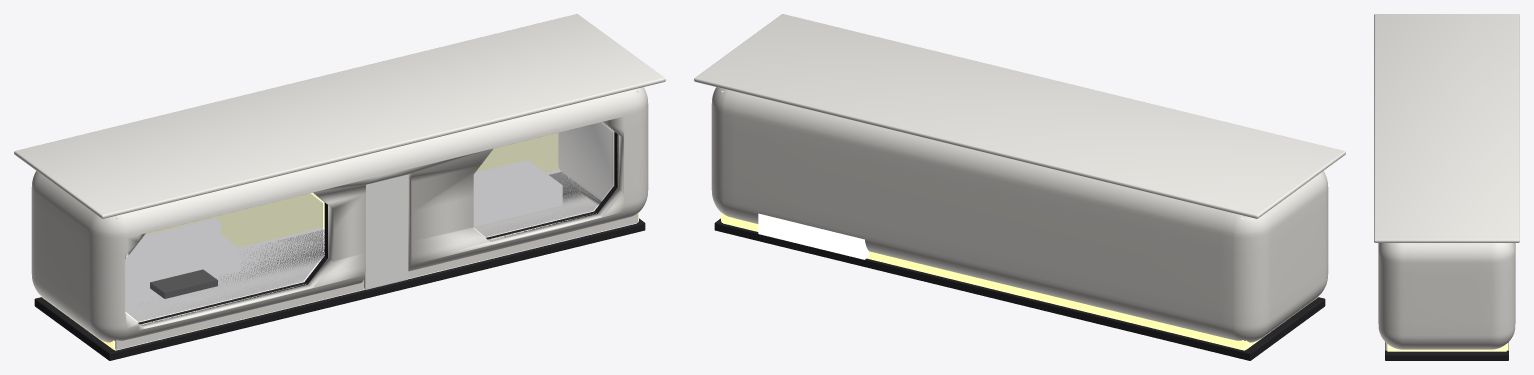
The picture shows the model from 3 angles, left to right: view 1: azimuth 30°, elevation 25°; view 2: azimuth 150°, elevation 25°; view 3: azimuth 270°, elevation 25°; orthographic projection. The views are drawn at different scales.
Visible parts, largest first — view 1: Shell, Roof, Glass_L, Glass_R, Interior_Floor, Base, Interior_BackWall, Door, Interior_Bed, Interior_Sofa, Interior_Front_Bot, Interior_SofaBack (+4 smaller); view 2: Shell, Roof, Base, Interior_BackWall, Interior_Bed; view 3: Roof, Shell, Base, Interior_EndWall_R.
Part boxes in pixels (bbox=[...]): Shell: bbox=[31, 87, 648, 342]; Roof: bbox=[14, 14, 665, 218]; Glass_L: bbox=[125, 193, 322, 321]; Glass_R: bbox=[474, 122, 612, 236]; Interior_Floor: bbox=[114, 169, 636, 350]; Base: bbox=[34, 218, 645, 360]; Interior_BackWall: bbox=[145, 133, 559, 247]; Door: bbox=[364, 174, 408, 289]; Interior_Bed: bbox=[473, 160, 562, 226]; Interior_Sofa: bbox=[125, 234, 239, 298]; Interior_Front_Bot: bbox=[116, 213, 629, 349]; Interior_SofaBack: bbox=[128, 218, 220, 256]; Shell: bbox=[711, 87, 1328, 342]; Roof: bbox=[694, 14, 1345, 218]; Base: bbox=[714, 218, 1325, 360]; Interior_BackWall: bbox=[721, 91, 1244, 349]; Interior_Bed: bbox=[758, 213, 868, 259]; Roof: bbox=[1374, 14, 1519, 242]; Shell: bbox=[1378, 243, 1515, 349]; Base: bbox=[1385, 342, 1508, 360]; Interior_EndWall_R: bbox=[1387, 344, 1506, 351].
Size of the model in its own units: 11.68 by 3.11 by 3.18.
